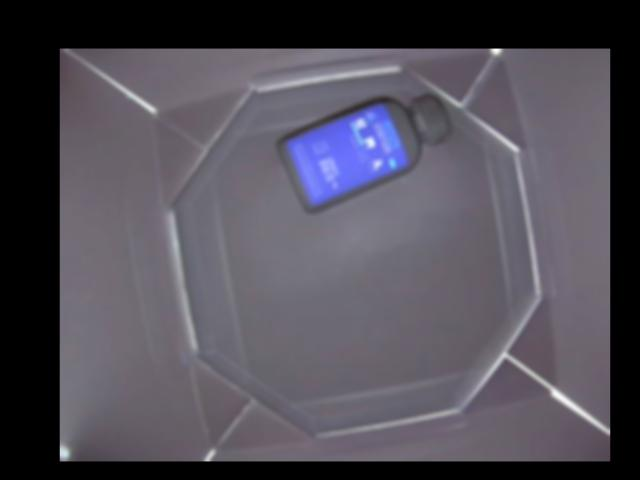Bottle: (275, 89, 451, 211)
